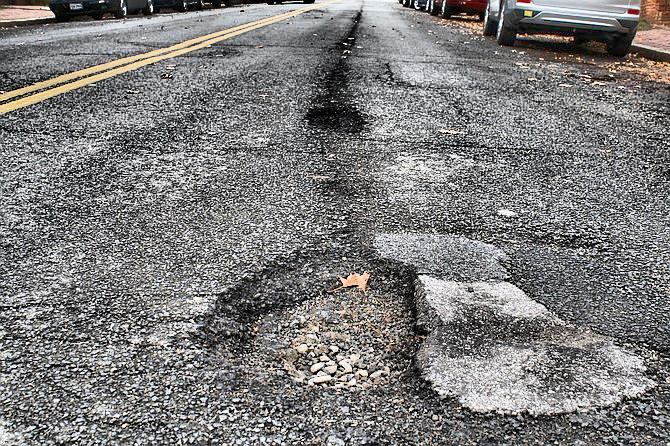pothole: (234, 269, 444, 412), (302, 103, 368, 137)
